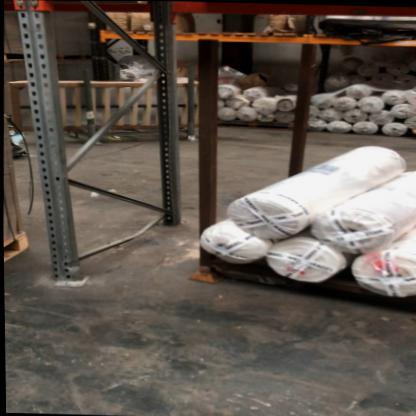vertical_damage: (45, 248, 90, 290)
